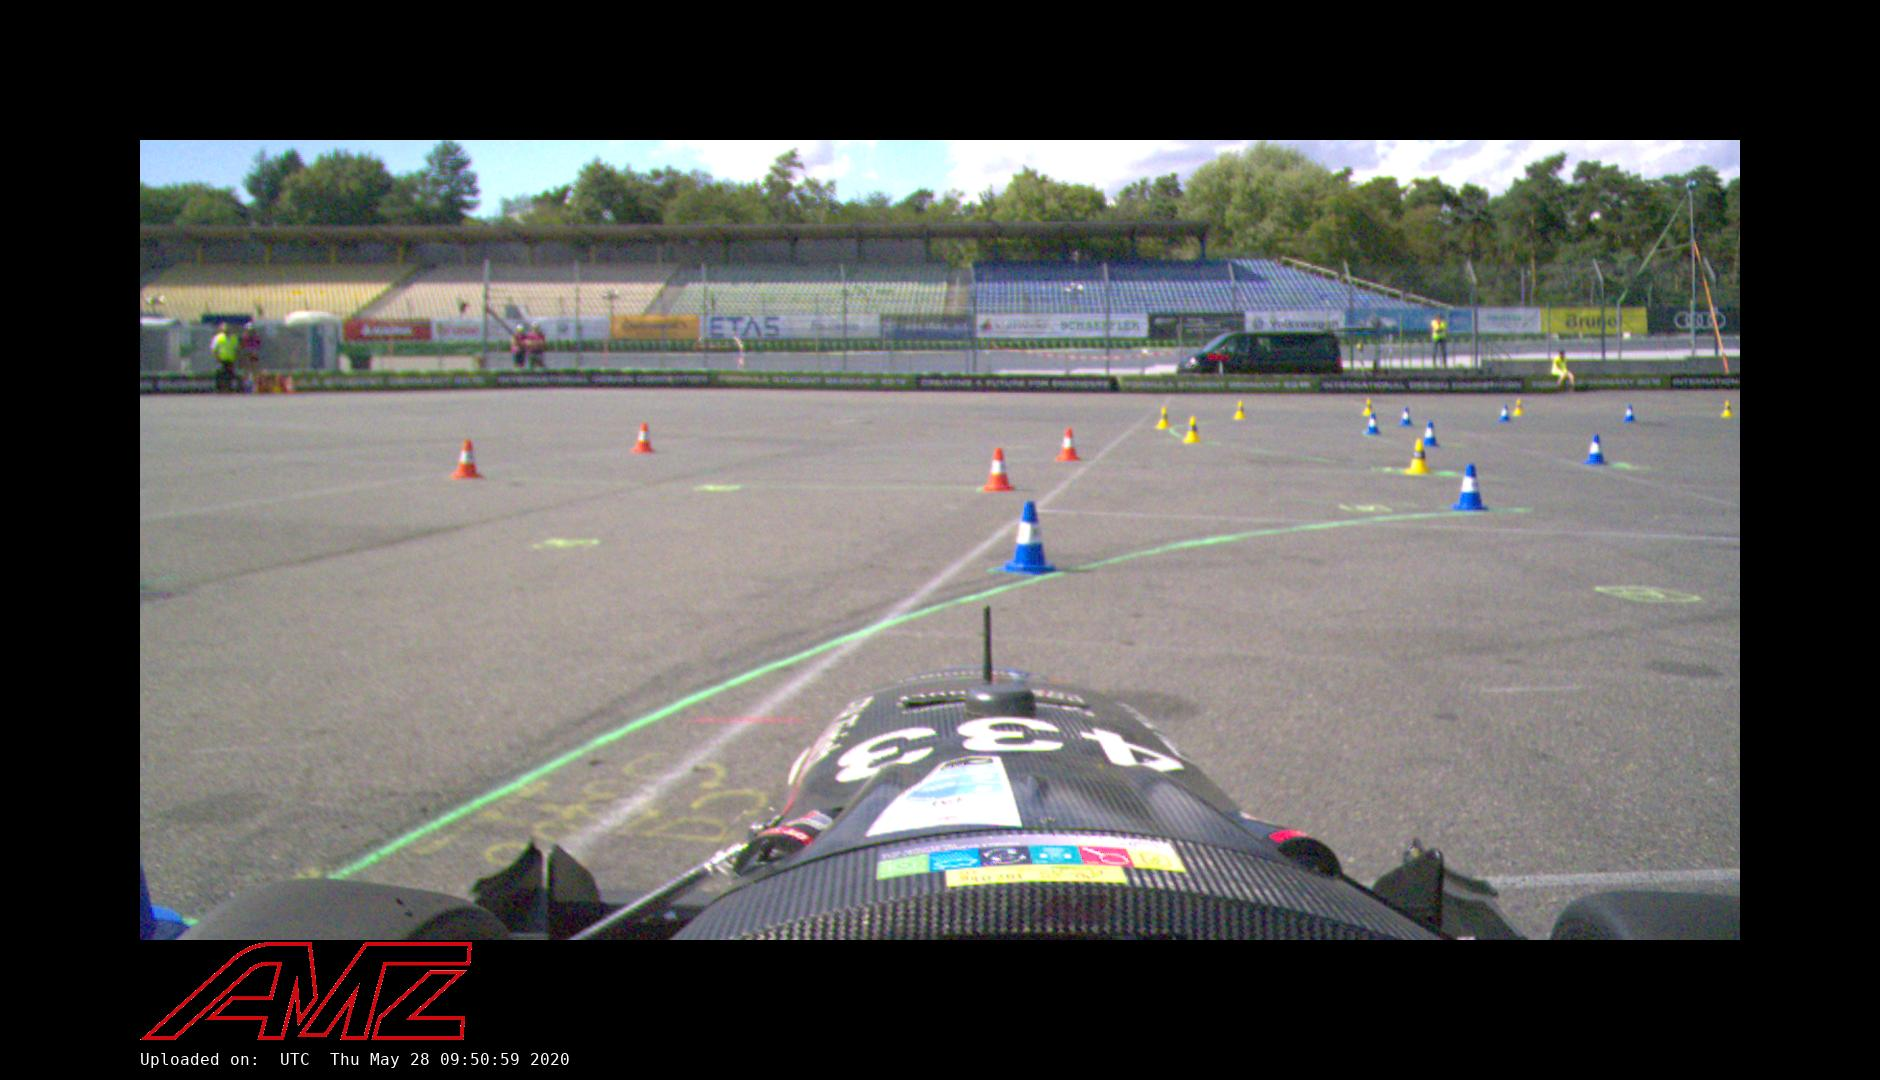blue_cone: (1001, 501, 1057, 574), (1453, 462, 1487, 510), (1583, 434, 1609, 465), (1423, 421, 1438, 446), (1366, 413, 1382, 435), (1398, 407, 1414, 426), (1498, 404, 1512, 422), (1623, 404, 1636, 422)
orange_cone: (449, 441, 485, 481), (983, 448, 1015, 491), (1055, 428, 1079, 462), (630, 422, 657, 453)
yellow_cone: (1404, 439, 1433, 474), (1183, 416, 1202, 443), (1154, 407, 1172, 428), (1233, 400, 1247, 419), (1721, 400, 1734, 419), (1512, 398, 1524, 416), (1362, 398, 1373, 417)
